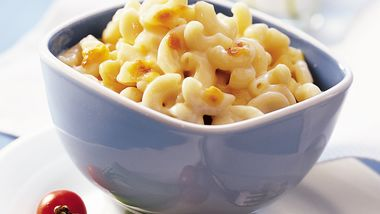macncheese: (61, 1, 341, 125)
